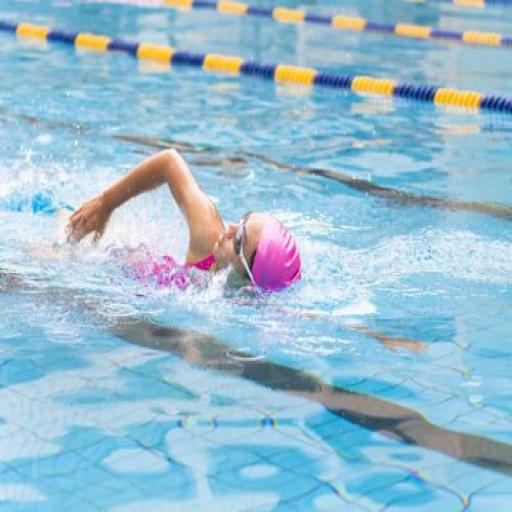swimming: (12, 147, 511, 481), (59, 145, 303, 301)
